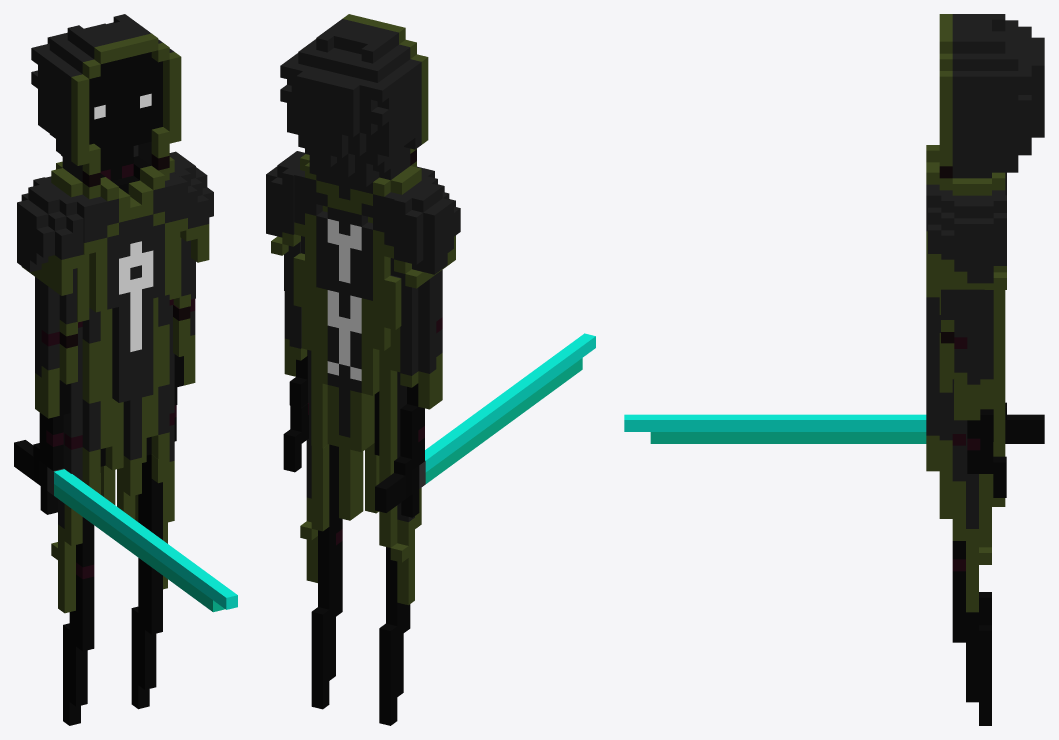
File: Boop2.FBX
3 views of the same model, side by side, from view 1: azimuth 30°, elevation 25°; view 2: azimuth 150°, elevation 25°; view 3: azimuth 270°, elevation 25° (orthographic).
Visible parts, largest first — view 1: Head, Body3, Body2, RightArmTop, Sword, Body1, RightLegBottom, LeftLegBottom, RightArmBottom, LeftArmTop, LeftLegTop, RightLegTop (+2 smaller); view 2: Head, Body3, Body2, RightArmTop, Sword, Body1, LeftLegBottom, RightLegBottom, RightArmBottom, LeftArmTop, LeftLegTop, LeftArmBottom (+3 smaller); view 3: Head, Sword, LeftArmTop, LeftArmBottom, LeftLegBottom, Body2, LeftLegTop, Body1, Body3, LeftArmWrist.
Boxes of the visible parts, x1,y1,x2,y2 form: Head: (31,14,181,187); Body3: (46,156,187,322); Body2: (63,299,174,439); RightArmTop: (17,177,84,336); Sword: (14,440,237,612); Body1: (63,412,174,519); RightLegBottom: (58,560,94,725); LeftLegBottom: (131,540,167,709); RightArmBottom: (35,325,77,434); LeftArmTop: (169,151,213,308); LeftLegTop: (135,449,174,540); RightLegTop: (51,471,100,567); Head: (280,14,428,186); Body3: (293,154,434,318); Body2: (293,293,406,429); RightArmTop: (390,176,460,328); Sword: (375,333,595,517); Body1: (309,403,400,520); LeftLegBottom: (306,529,342,709); RightLegBottom: (379,552,414,725); RightArmBottom: (400,317,442,435); LeftArmTop: (266,151,305,299); LeftLegTop: (300,438,342,540); LeftArmBottom: (284,291,307,407); Head: (939,14,1044,178); Sword: (624,414,1044,443); LeftArmTop: (928,195,1006,337); LeftArmBottom: (941,332,993,438); LeftLegBottom: (952,559,991,725); Body2: (926,298,1005,433); LeftLegTop: (939,464,991,564); Body1: (926,411,1005,518); Body3: (926,145,1005,314); LeftArmWrist: (967,438,1006,497).
Size of the model in its own units: 14.85 by 32 by 57.
